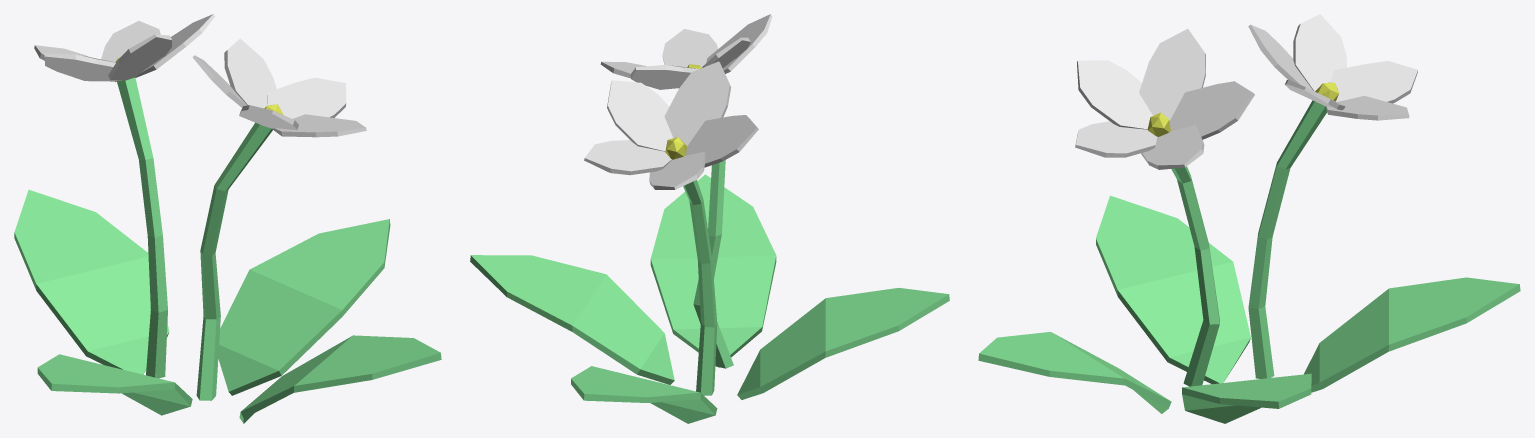
Rendered from flower_2.fbx.
3 views of the same model, side by side, from view 1: azimuth 30°, elevation 25°; view 2: azimuth 150°, elevation 25°; view 3: azimuth 270°, elevation 25° (orthographic). The views are drawn at different scales.
Parts seen in each view (by area): view 1: flower; view 2: flower; view 3: flower.
Boxes of the visible parts, box(x1,y1,x2,y2) form: flower: box(14, 14, 441, 423); flower: box(470, 14, 949, 423); flower: box(978, 14, 1520, 423).
Bounding box in the file's own units: 23.88 × 19.83 × 26.47.
